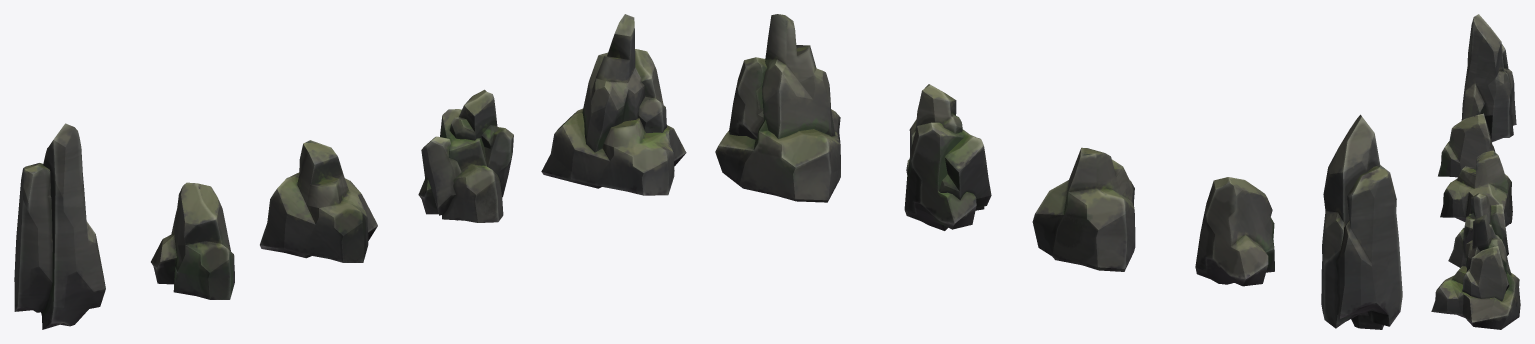
Rendered from Rocks.glb.
3 renders of one model, left to right at view 1: azimuth 30°, elevation 25°; view 2: azimuth 150°, elevation 25°; view 3: azimuth 270°, elevation 25°, orthographic. The views are drawn at different scales.
Visible parts, largest first — view 1: Rock_5, Rock_4, Rock_2, Rock_3, Rock_1; view 2: Rock_5, Rock_4, Rock_2, Rock_3, Rock_1; view 3: Rock_5, Rock_4, Rock_2, Rock_1, Rock_3.
Part boxes in pixels (left/top/right/bottom): Rock_5: left=541, top=14, right=686, bottom=195; Rock_4: left=14, top=123, right=105, bottom=329; Rock_2: left=260, top=140, right=377, bottom=262; Rock_3: left=418, top=89, right=513, bottom=222; Rock_1: left=151, top=182, right=234, bottom=299; Rock_5: left=715, top=14, right=840, bottom=202; Rock_4: left=1321, top=114, right=1402, bottom=329; Rock_2: left=1032, top=147, right=1135, bottom=271; Rock_3: left=904, top=84, right=991, bottom=230; Rock_1: left=1195, top=177, right=1274, bottom=286; Rock_5: left=1431, top=214, right=1520, bottom=329; Rock_4: left=1461, top=14, right=1516, bottom=142; Rock_2: left=1440, top=150, right=1512, bottom=226; Rock_1: left=1438, top=113, right=1495, bottom=177; Rock_3: left=1448, top=193, right=1508, bottom=267.
Size of the model in its own units: 7.28 by 2.15 by 1.32.
Materials: 1 (1 with a texture image).
